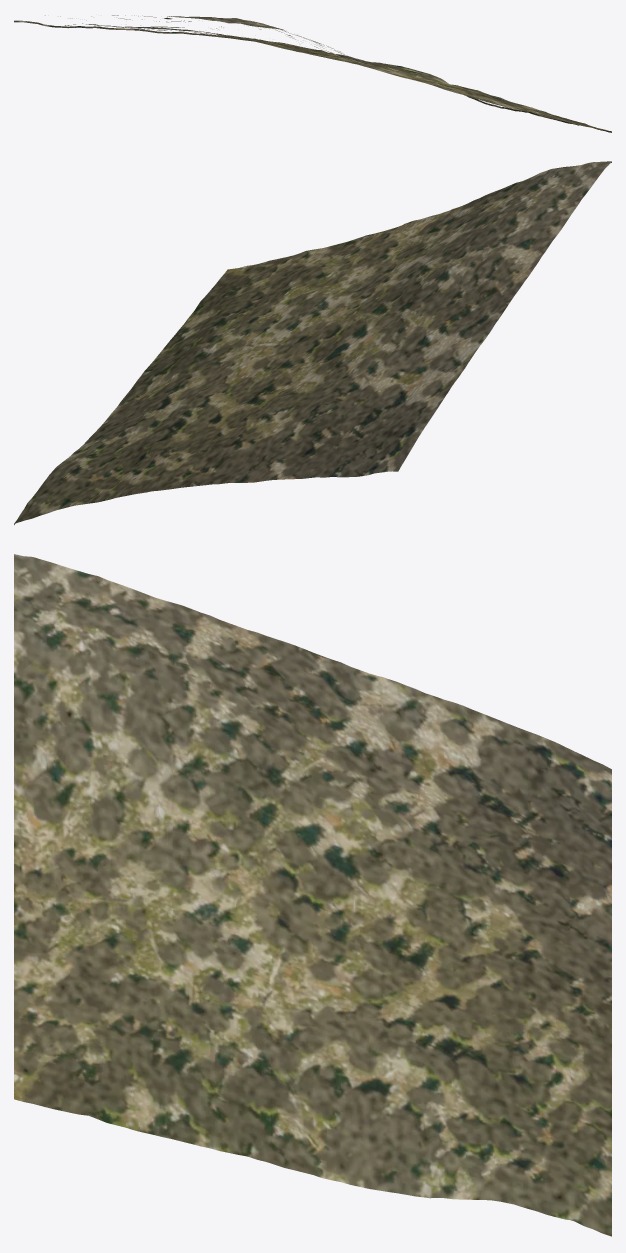
3 views of the same model, one above another, from view 1: azimuth 30°, elevation 25°; view 2: azimuth 150°, elevation 25°; view 3: azimuth 270°, elevation 25° (orthographic). The views are drawn at different scales.
Size of the model in its own units: 250 by 188 by 241.
Materials: 1 (1 with a texture image).
